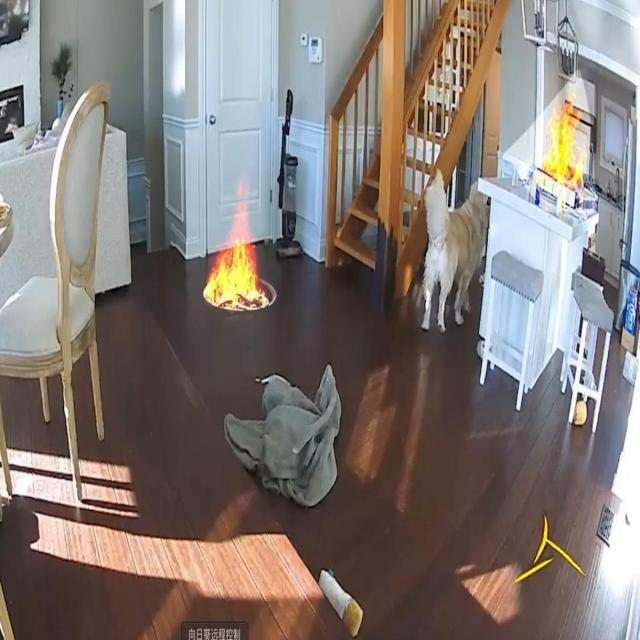smoke: (206, 178, 268, 310), (544, 95, 588, 194)
